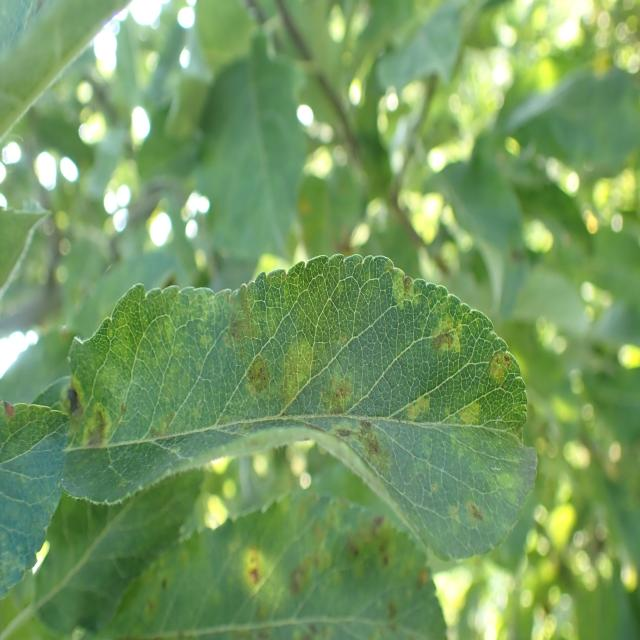scab: (43, 244, 549, 531), (80, 514, 486, 640)
